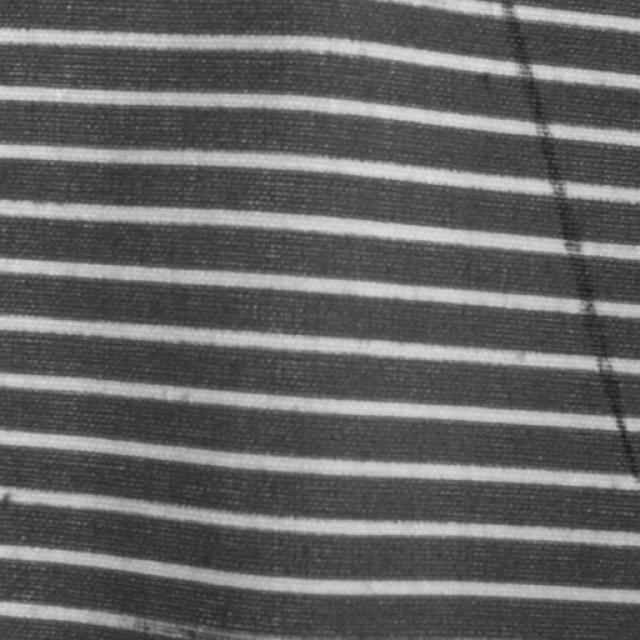Stain-Defect: (500, 0, 639, 482)
